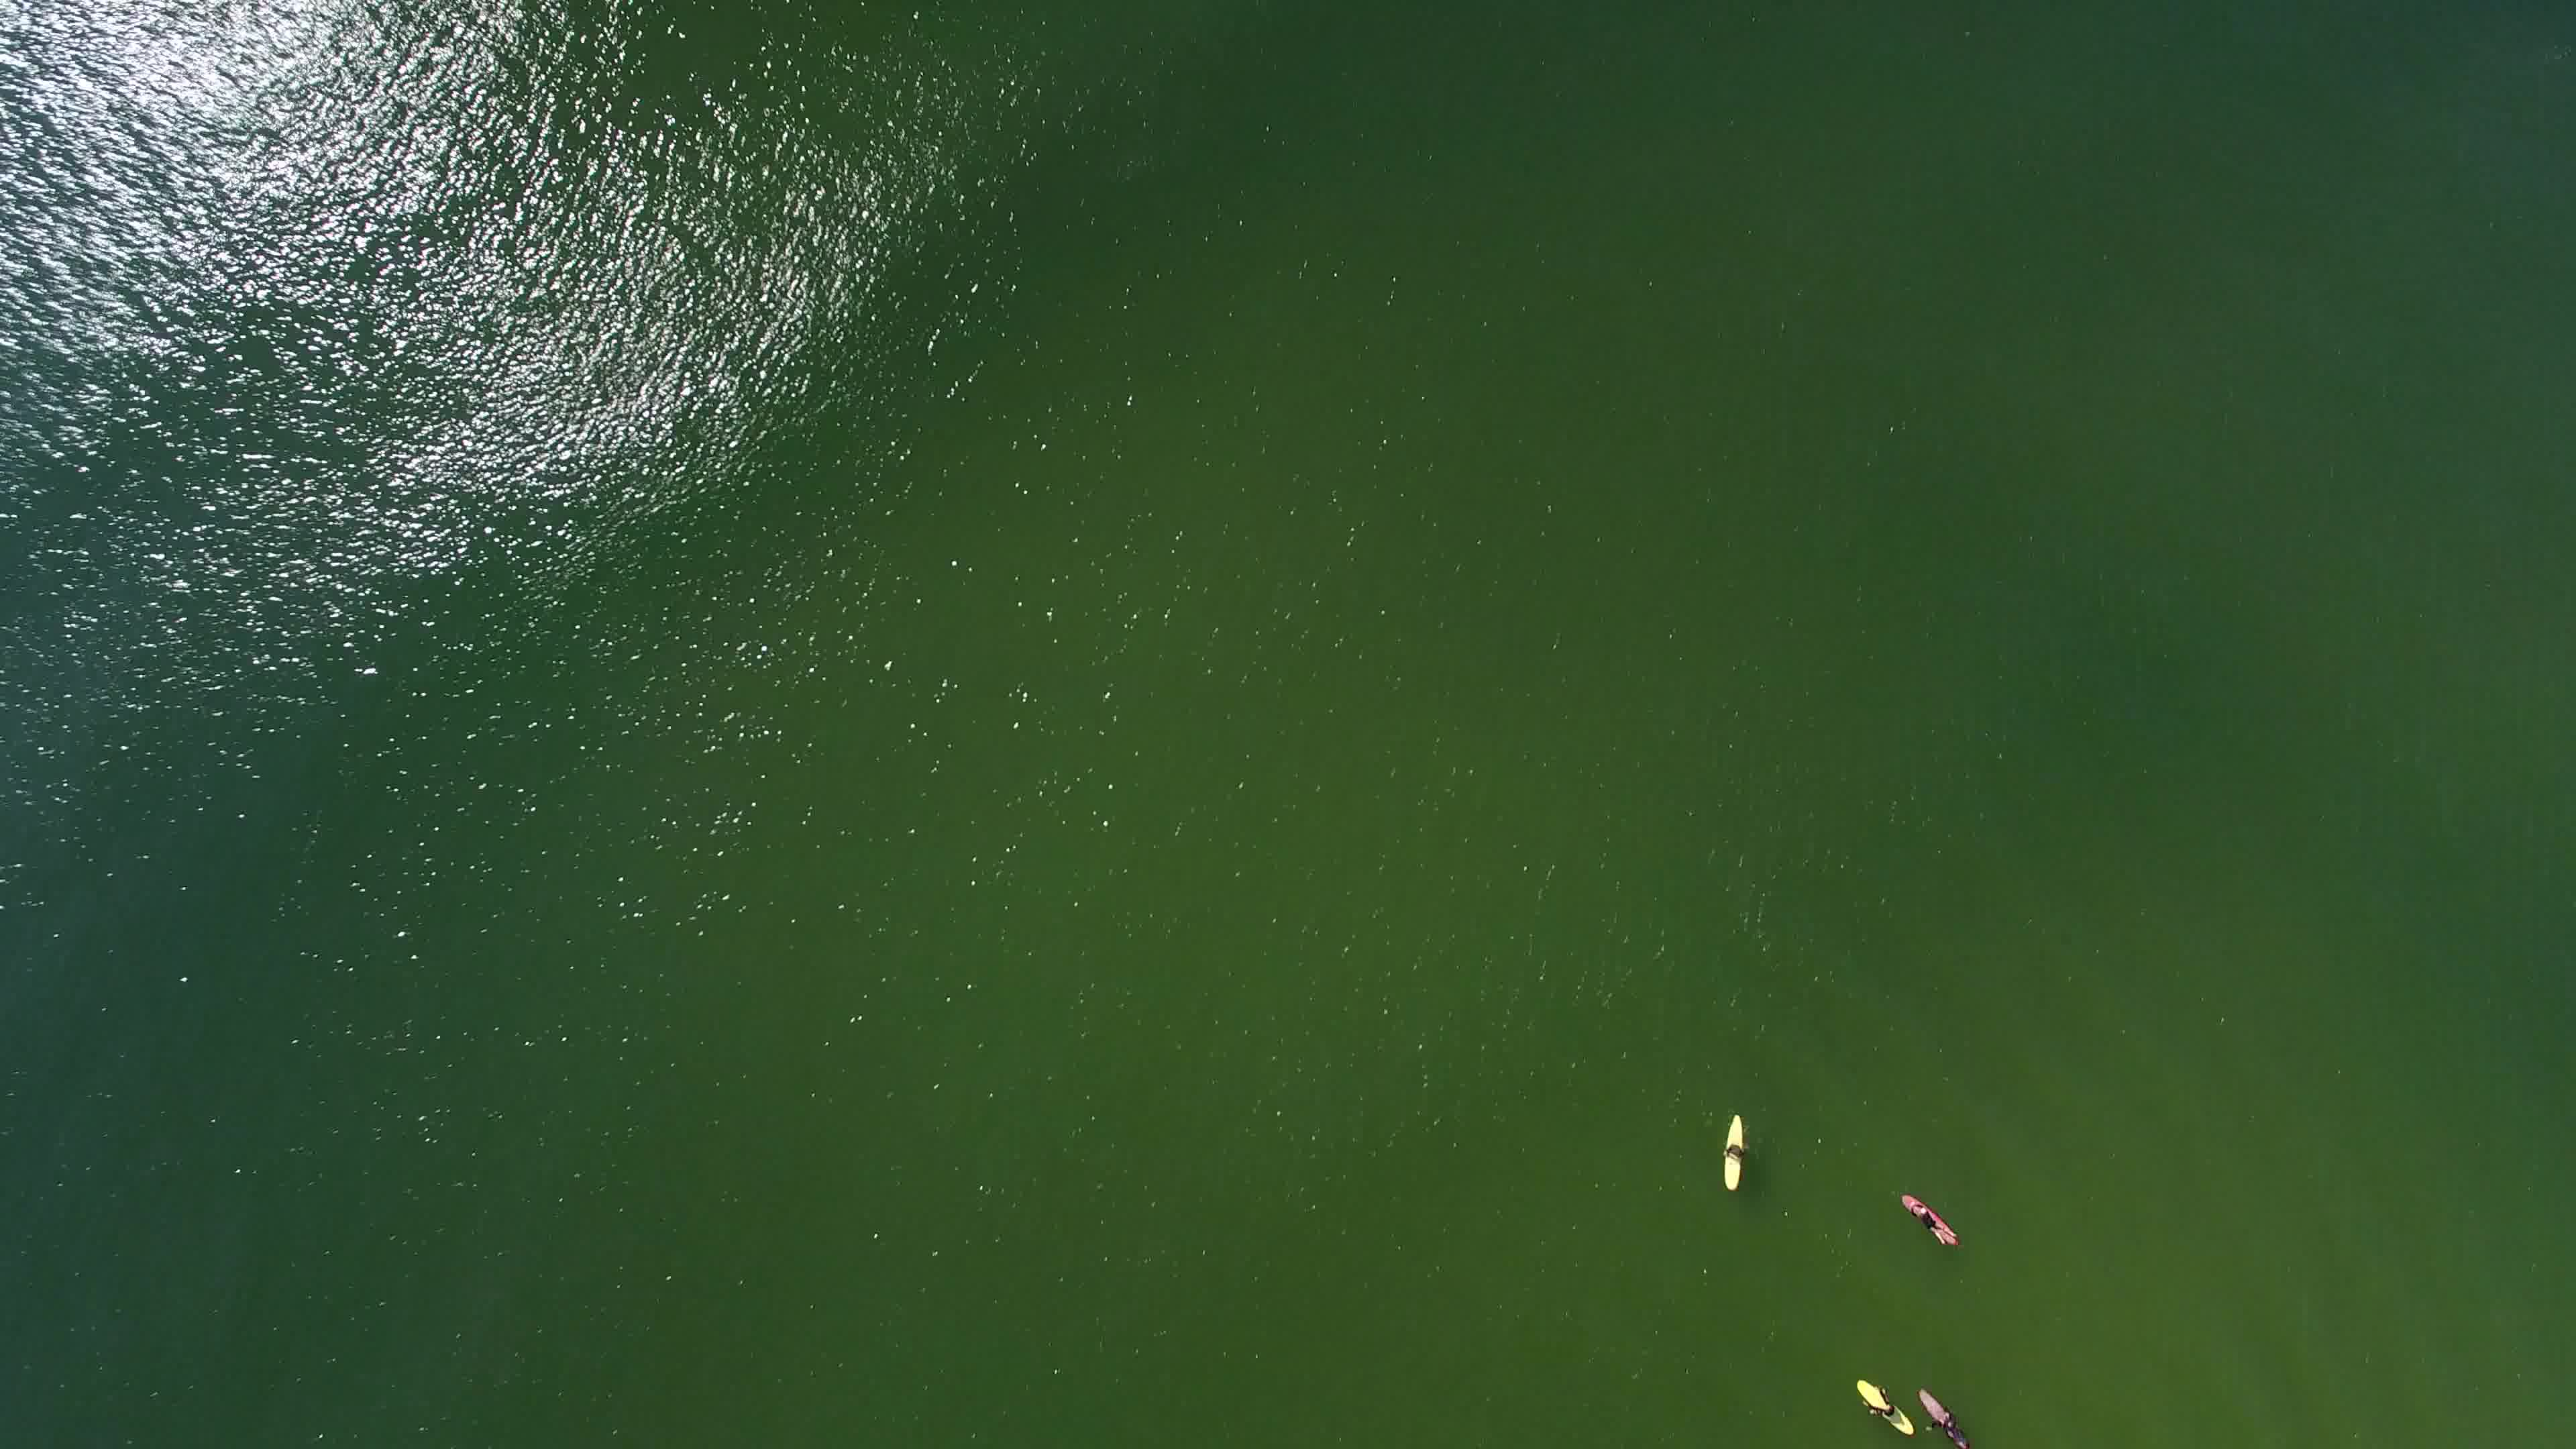surfer: (1890, 1185, 1967, 1254), (1845, 1373, 1918, 1440), (1909, 1382, 1982, 1449), (1709, 1109, 1759, 1198)
